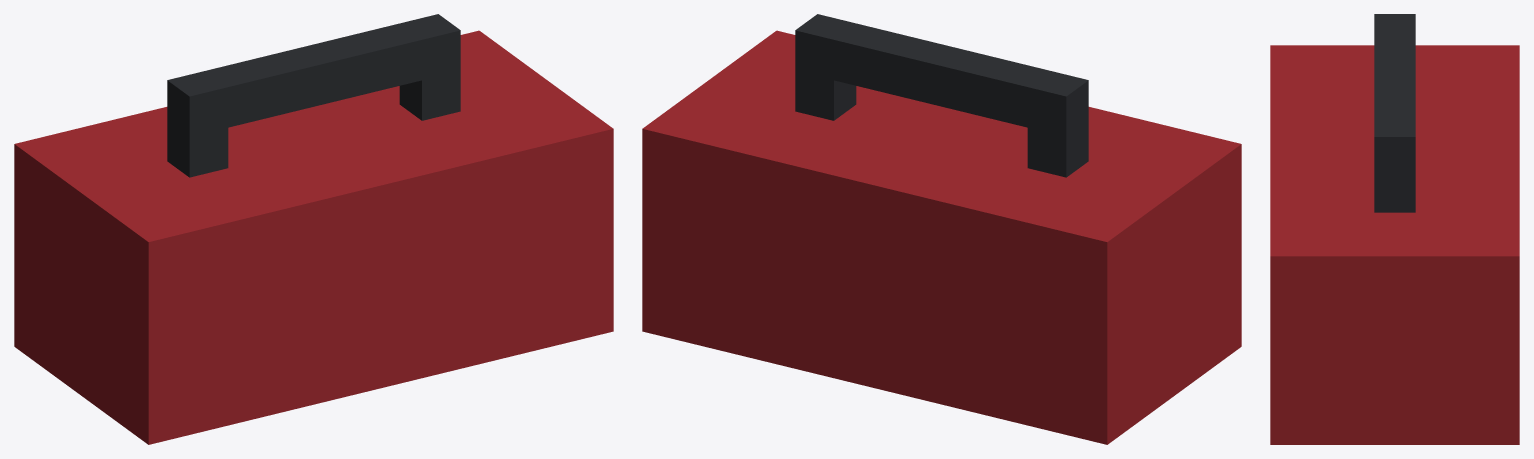
The model's file is good-tools.glb.
3 renders of one model, left to right at view 1: azimuth 30°, elevation 25°; view 2: azimuth 150°, elevation 25°; view 3: azimuth 270°, elevation 25°, orthographic. The views are drawn at different scales.
Parts seen in each view (by area): view 1: #a3262c, #2a2c30; view 2: #a3262c, #2a2c30; view 3: #a3262c, #2a2c30.
Boxes of the visible parts, x1=… form: #a3262c: x1=14, y1=30, x2=613, y2=444; #2a2c30: x1=167, y1=14, x2=460, y2=177; #a3262c: x1=642, y1=30, x2=1241, y2=444; #2a2c30: x1=795, y1=14, x2=1088, y2=177; #a3262c: x1=1270, y1=45, x2=1519, y2=444; #2a2c30: x1=1374, y1=14, x2=1415, y2=212.
Size of the model in its own units: 0.24 by 0.14 by 0.12.
